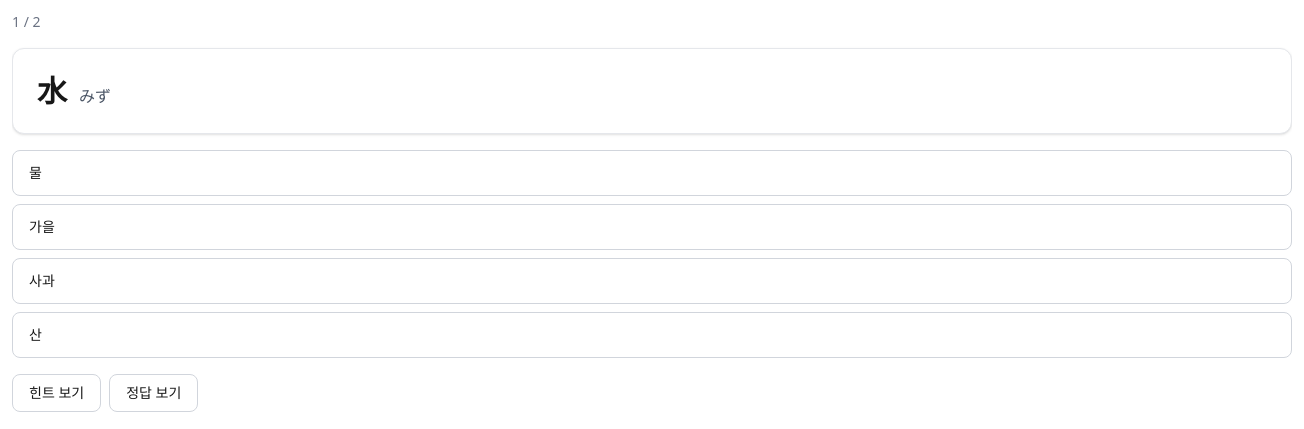
QuizPlayer › '다음' 클릭 시 다음 문제로 진행하고 마지막 문제 후 결과가 요약된다
This screenshot has width=1304, height=429.
Click the button "물": [35, 172] box [12,150,1292,196]
Wait 300 ms
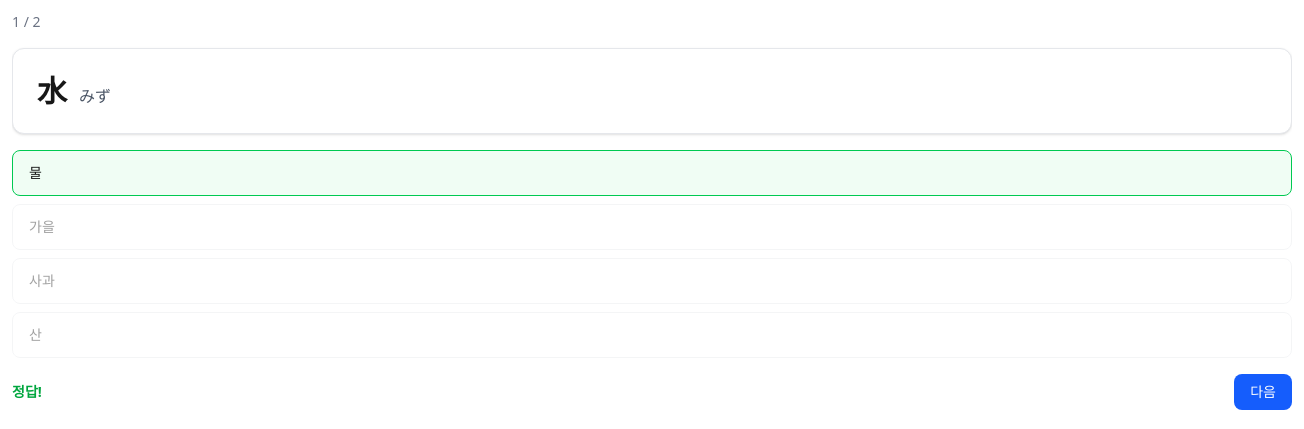
Click the button "다음": [1263, 392] box [1234,374,1292,410]
Wait 300 ms
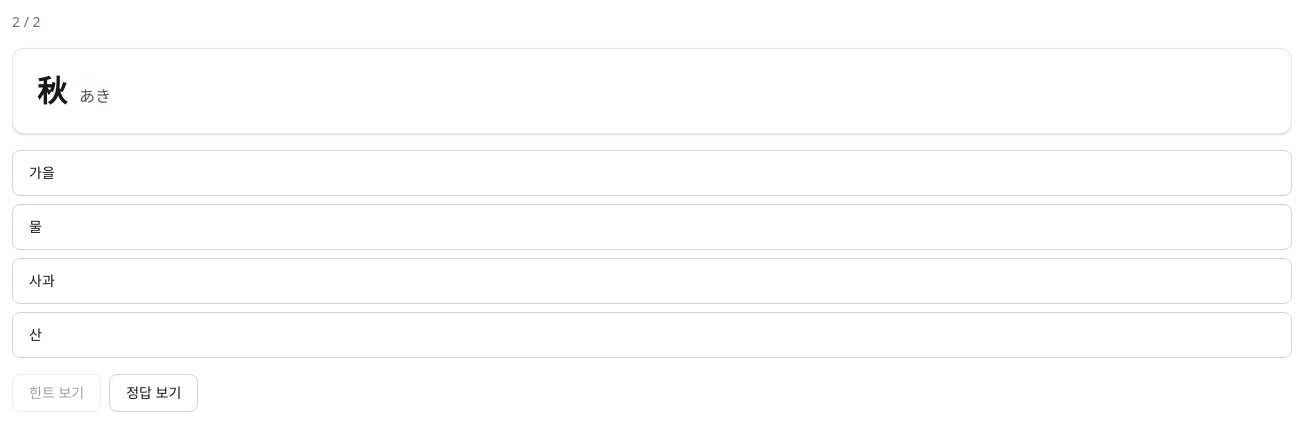
Expected: the text "秋" is shown, [37,73,67,109]
Click the button "가을": [42, 172] box [12,150,1292,196]
Wait 300 ms
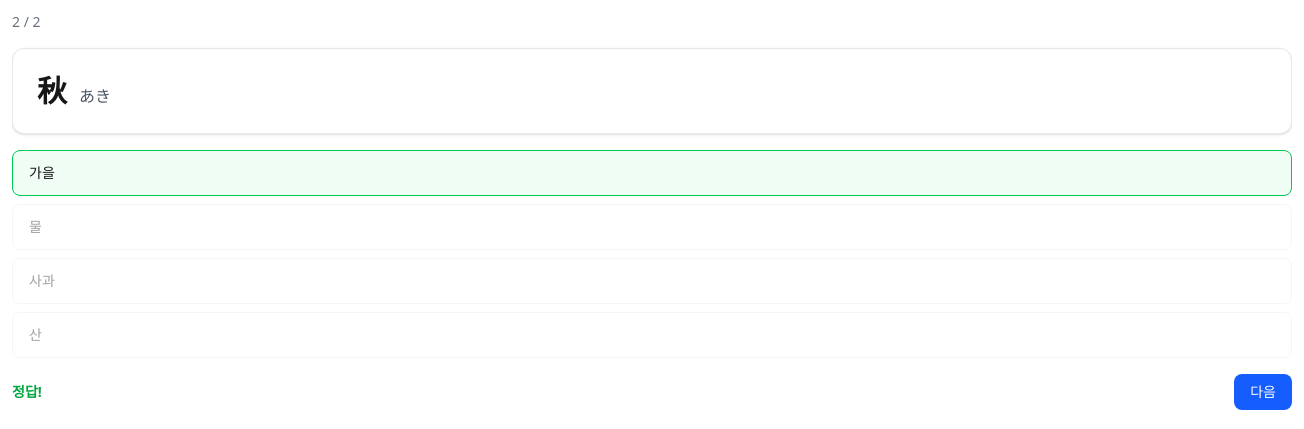
Click the button "다음": [1263, 392] box [1234,374,1292,410]
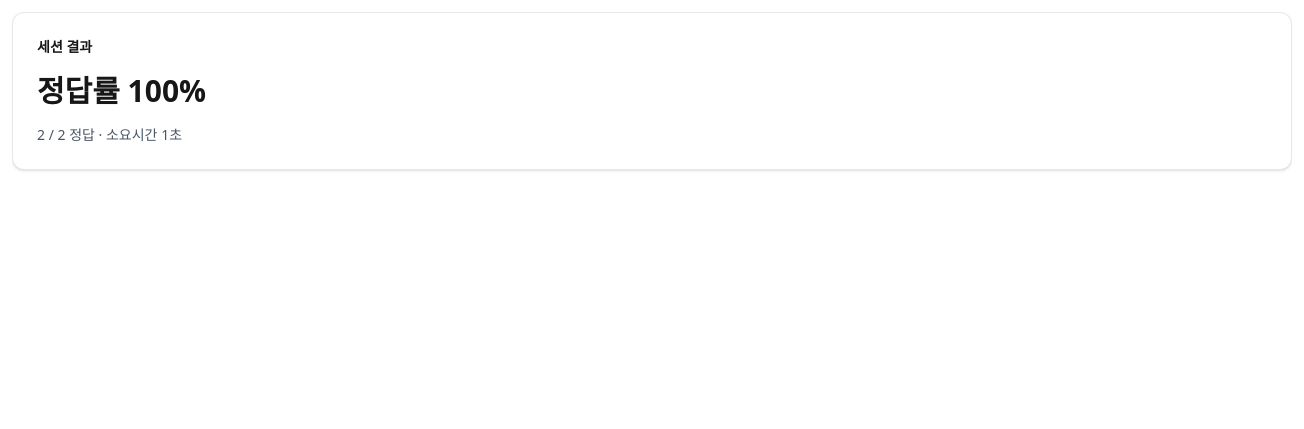
Expected: the text "정답률 100%" is shown, [37,70,206,111]
Expected: the text "2 / 2 정답 · 소요시간 1초" is shown, [37,125,182,144]
